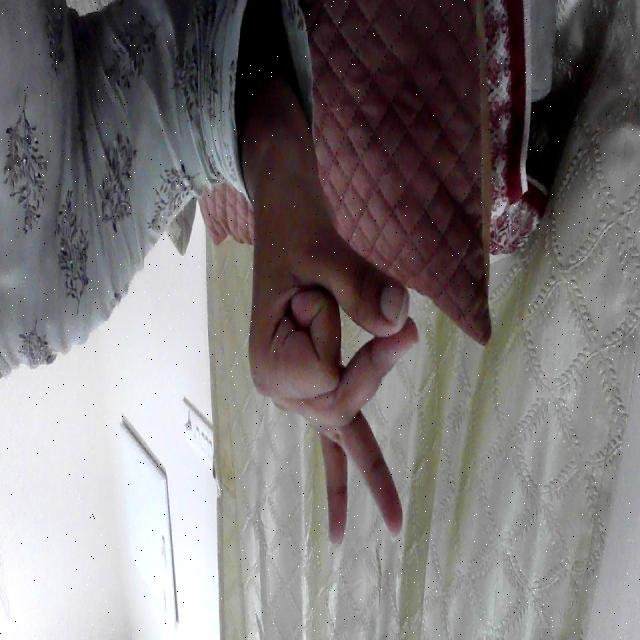Bhramara: (228, 170, 434, 564)
